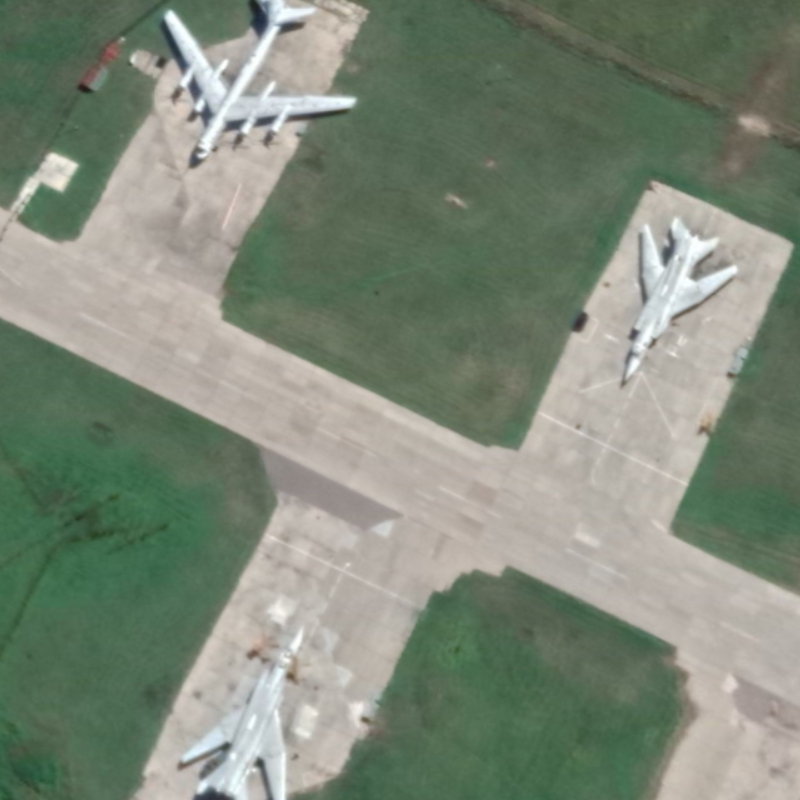A12: (178, 626, 308, 800), (619, 214, 741, 385)
A17: (160, 1, 360, 163)
